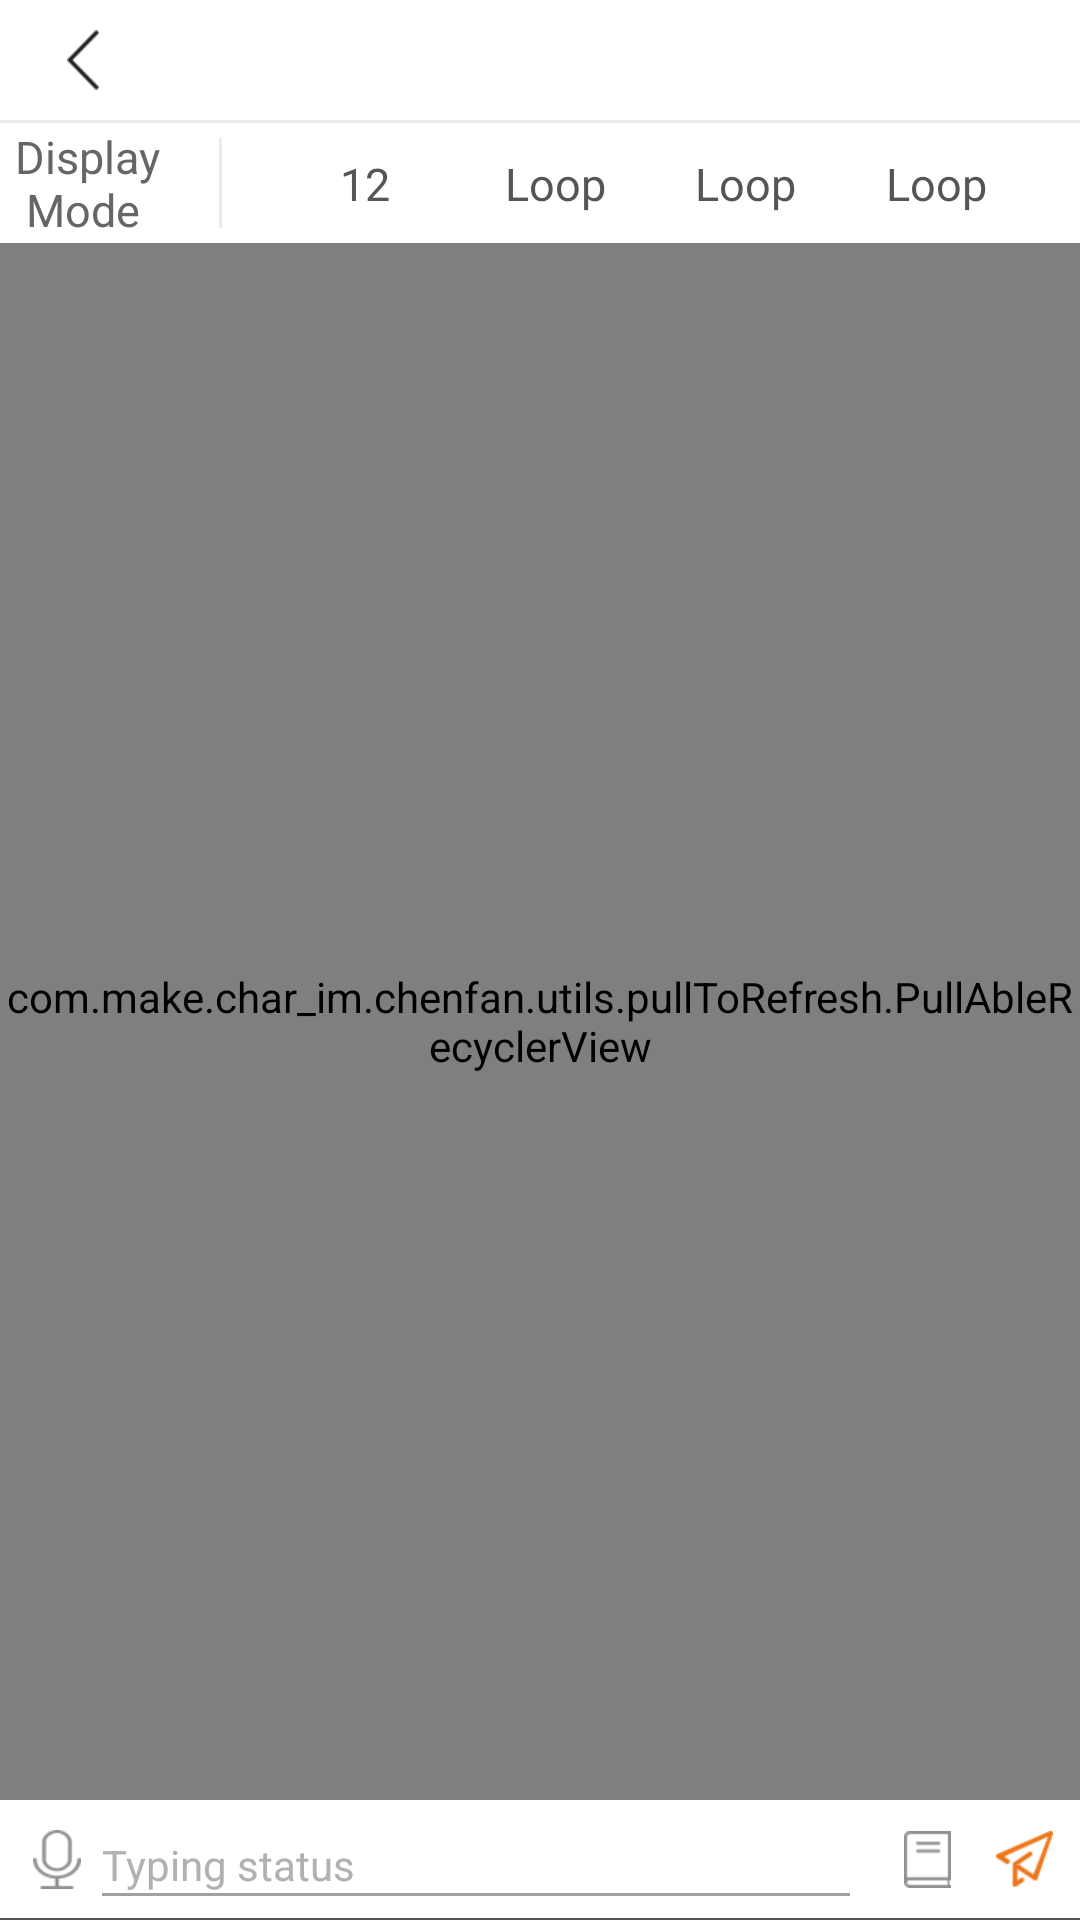

Where to tap for icons on this 1080×1920 app screen, as (x=x, y=y):
back: (x=83, y=60)
go voice: (x=57, y=1859)
send: (x=1024, y=1859)
word: (x=927, y=1859)
